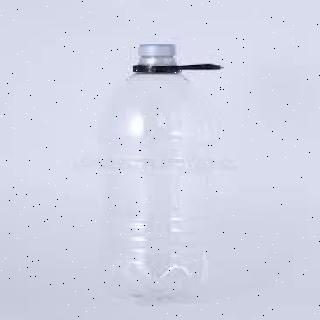Plastic-bottle: (101, 42, 225, 308)
